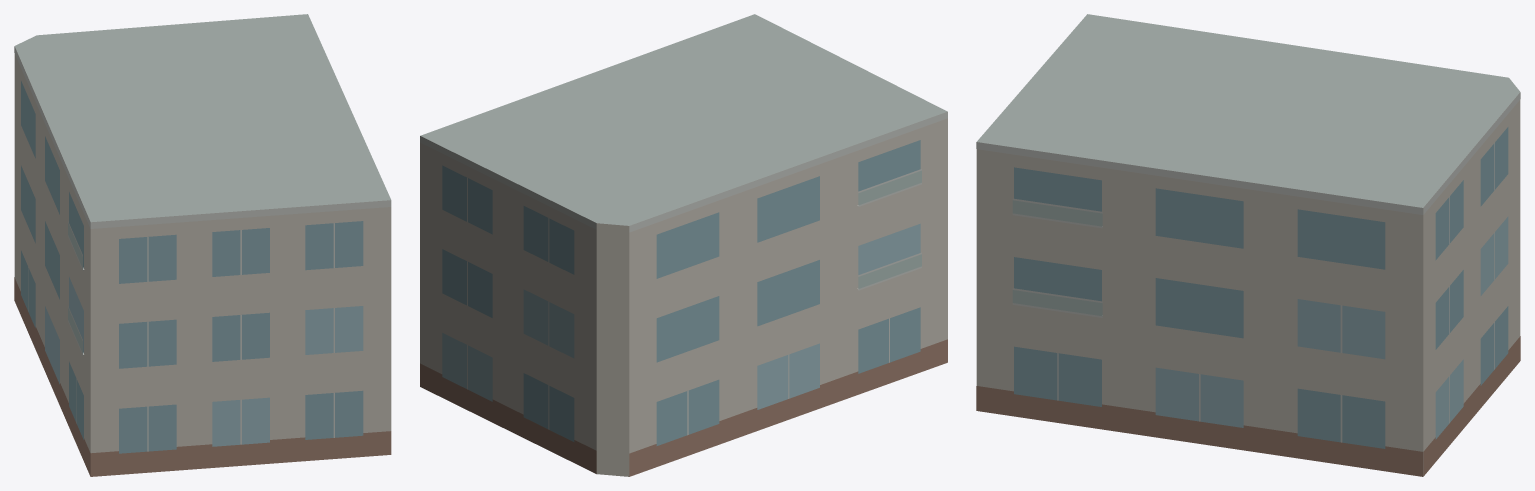
File: survey-upis-32713077.glb
3 renders of one model, left to right at view 1: azimuth 30°, elevation 25°; view 2: azimuth 150°, elevation 25°; view 3: azimuth 270°, elevation 25°, orthographic. The views are drawn at different scales.
Visible parts, largest first — view 1: survey-upis-32713077.tmp; view 2: survey-upis-32713077.tmp; view 3: survey-upis-32713077.tmp.
Boxes of the visible parts, <box> form: survey-upis-32713077.tmp: <box>14,14,391,476</box>; survey-upis-32713077.tmp: <box>420,14,947,476</box>; survey-upis-32713077.tmp: <box>976,14,1520,476</box>.
Bounding box in the file's own units: 14.17 × 9.15 × 16.79.
